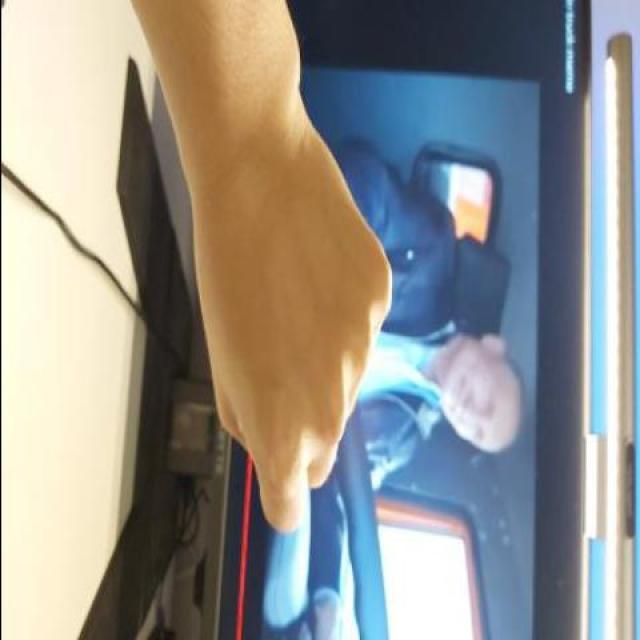Closed Hand: (172, 108, 428, 532)
